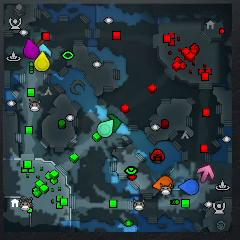p1: (180, 179, 198, 194)
p2: (98, 119, 114, 138)
p3: (24, 39, 39, 59)
p4: (35, 52, 50, 72)
p5: (153, 177, 173, 190)
x1: (197, 165, 214, 183)
x3: (39, 44, 52, 56)
x4: (107, 114, 121, 133)
x5: (32, 39, 45, 46)
